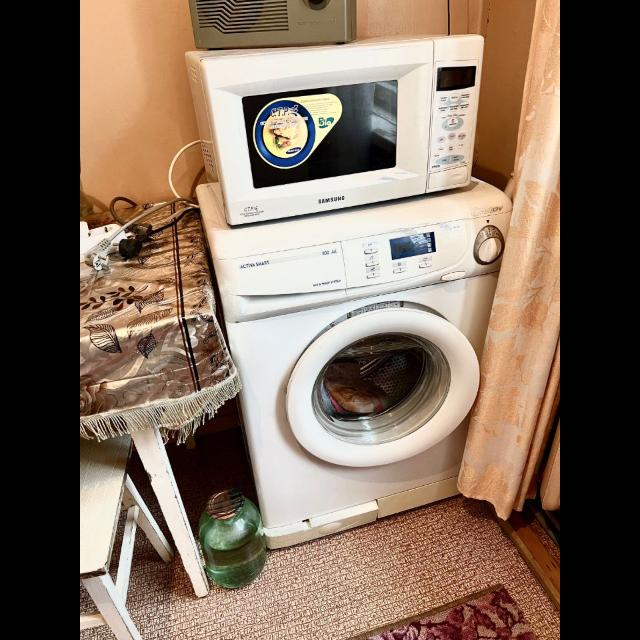Microwave: (192, 38, 478, 220)
Washing-Machine: (211, 207, 503, 538)
